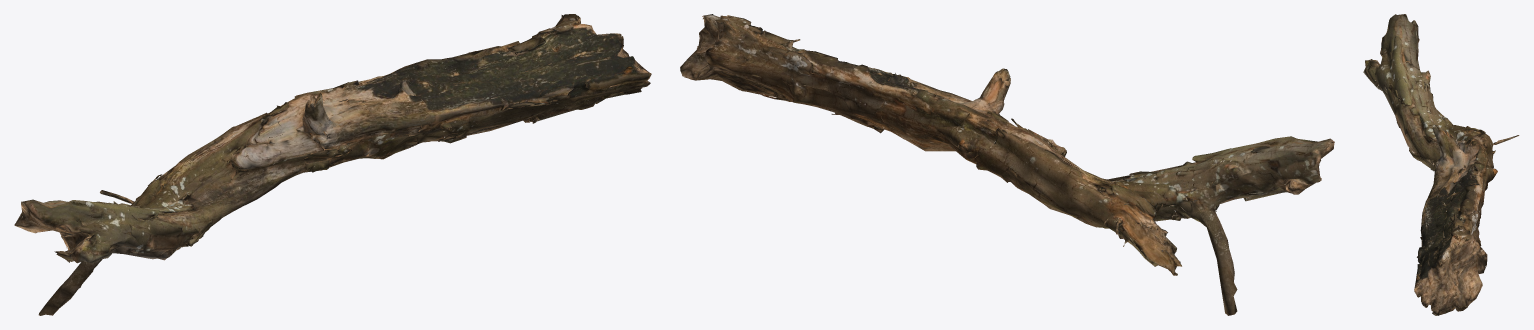
File: dead_tree_trunk_02.gltf
The picture shows the model from 3 angles, left to right: view 1: azimuth 30°, elevation 25°; view 2: azimuth 150°, elevation 25°; view 3: azimuth 270°, elevation 25°; orthographic projection. The views are drawn at different scales.
Visible parts, largest first — view 1: dead_tree_trunk_02; view 2: dead_tree_trunk_02; view 3: dead_tree_trunk_02.
Part boxes in pixels (x1,y1,x2,y2): dead_tree_trunk_02: (14, 14, 651, 315); dead_tree_trunk_02: (680, 14, 1334, 315); dead_tree_trunk_02: (1363, 14, 1519, 315).
Bounding box in the file's own units: 4.05 × 1.06 × 1.05.
Materials: 1 (1 with a texture image).
